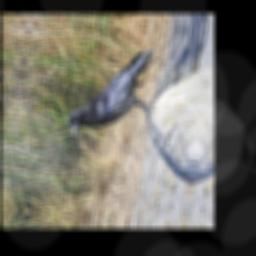Crow: (64, 39, 167, 146)
